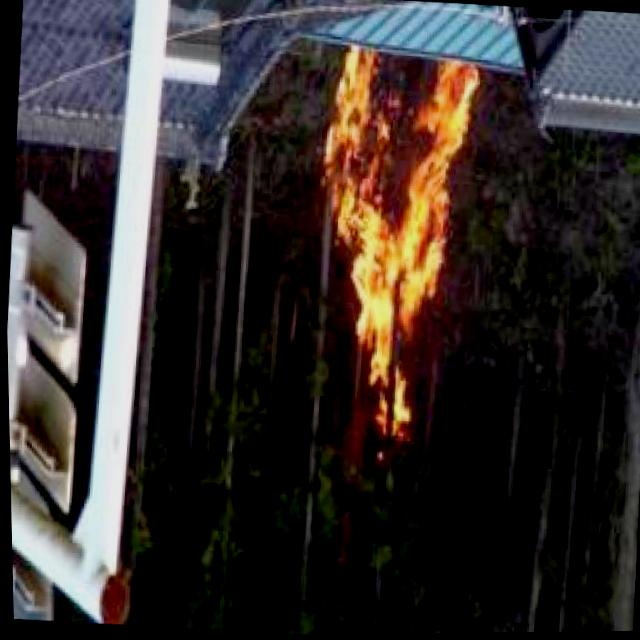helmet: (297, 40, 486, 431)
